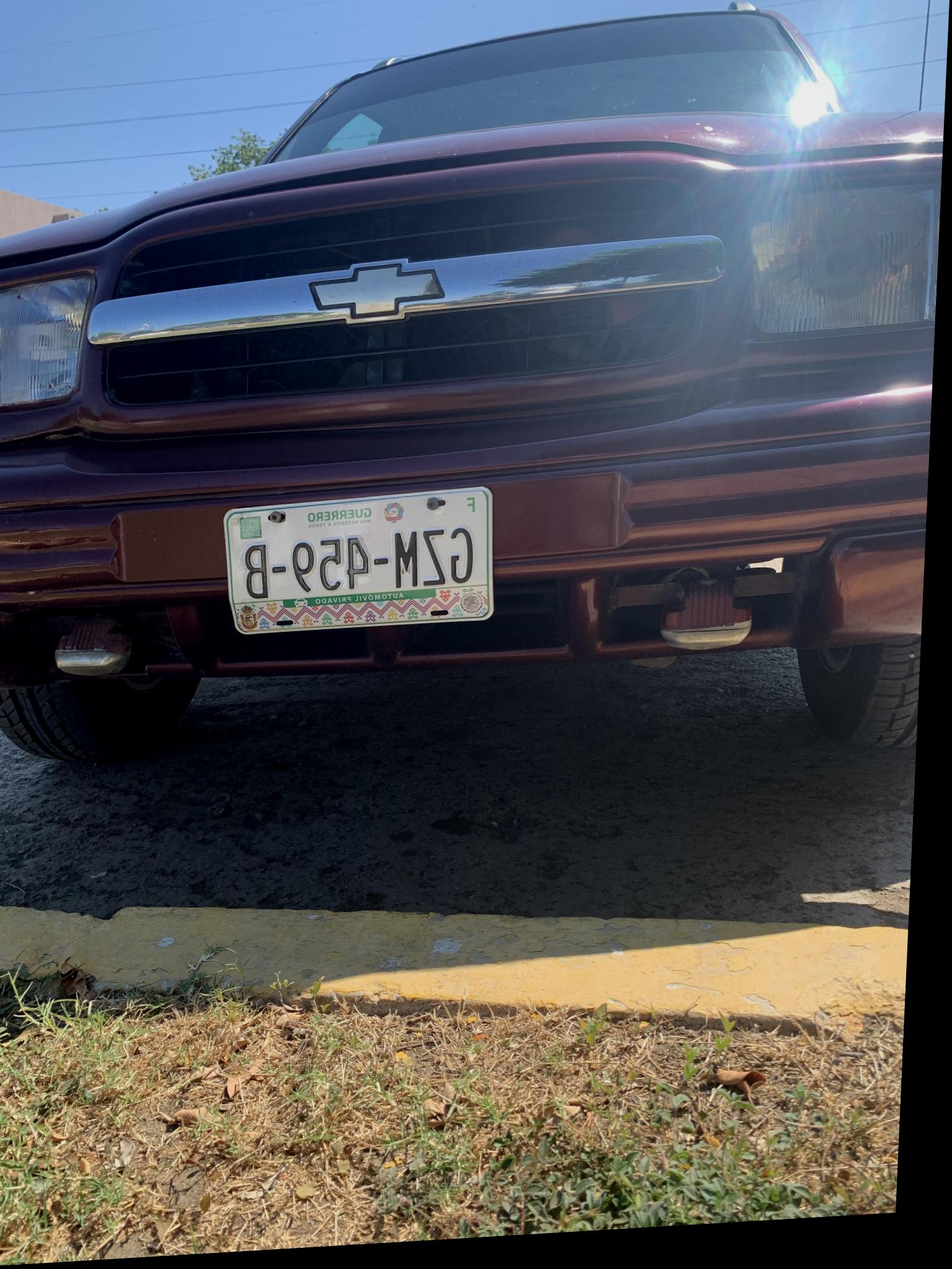License_Plate: (197, 455, 538, 660)
